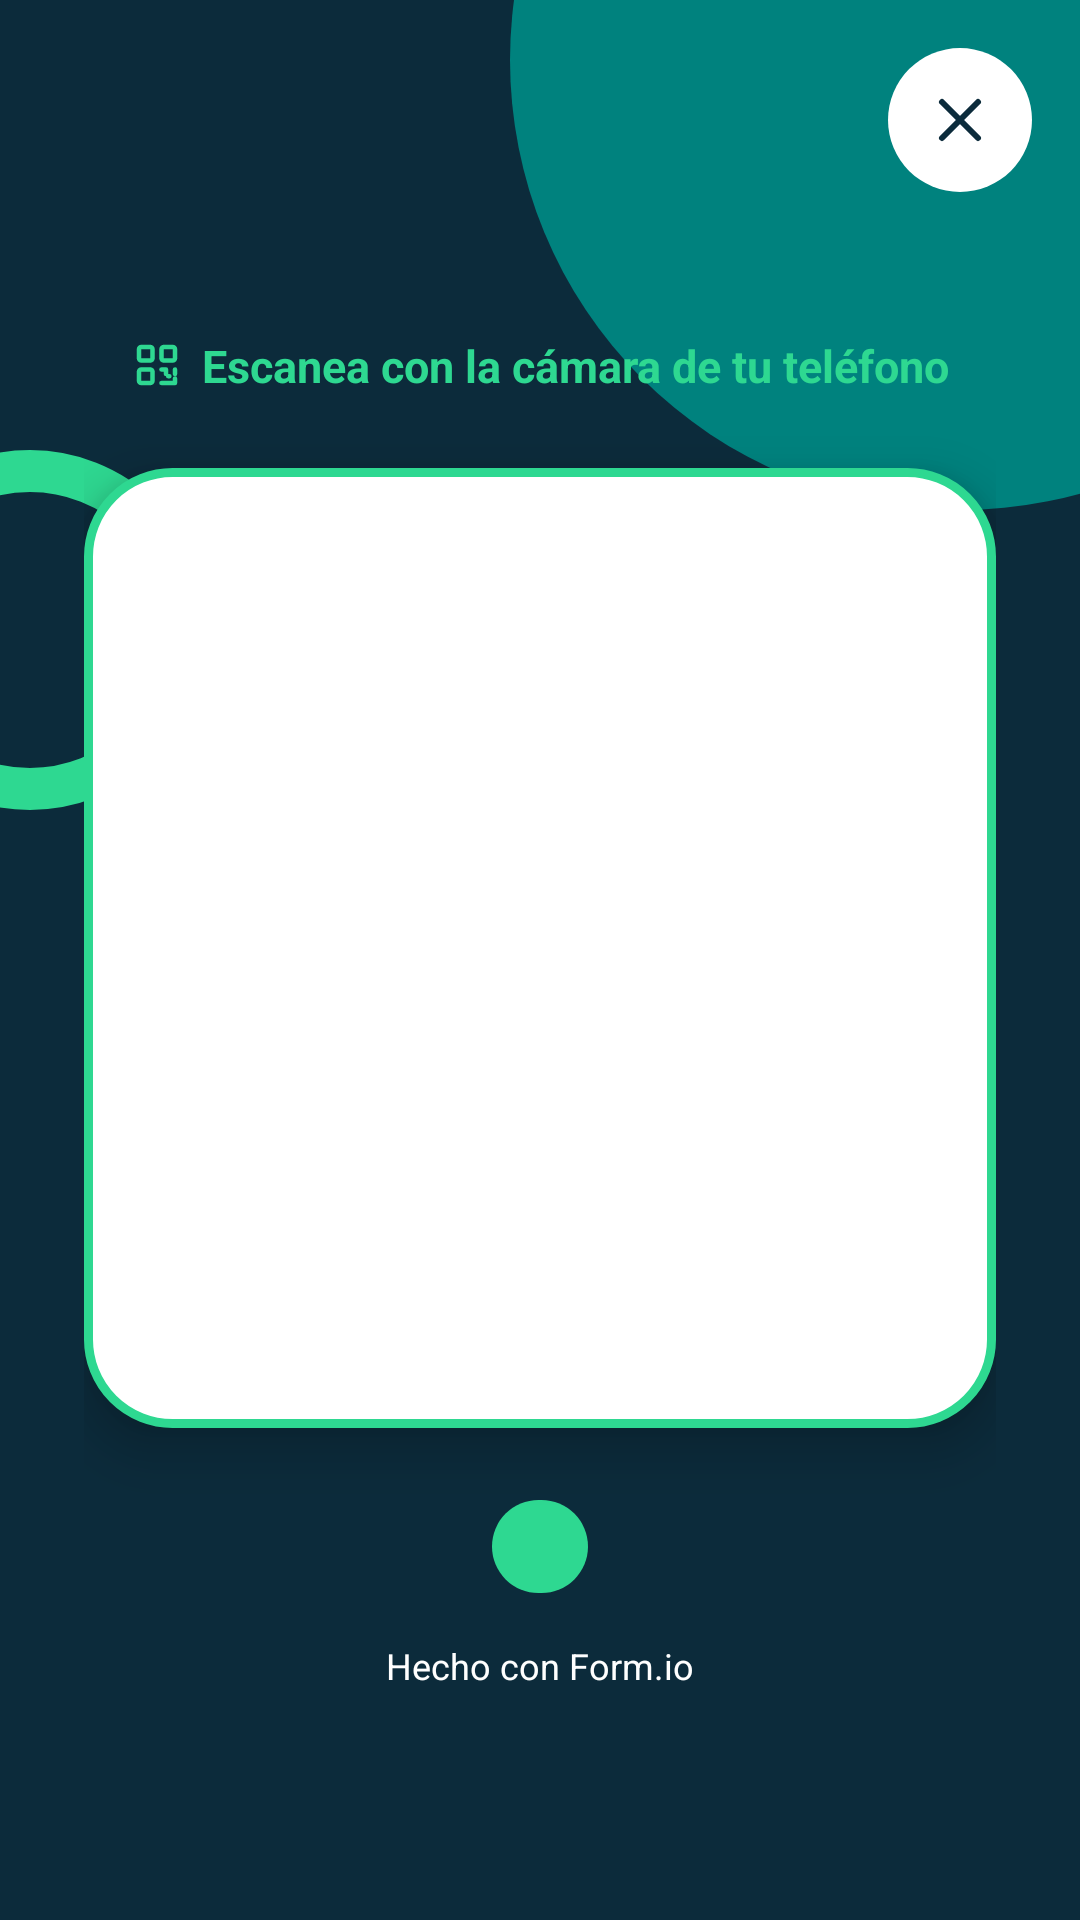

Named icons in this screenshot (1080*1920) and their centers, (x,y):
Cerrar: (960,120)
